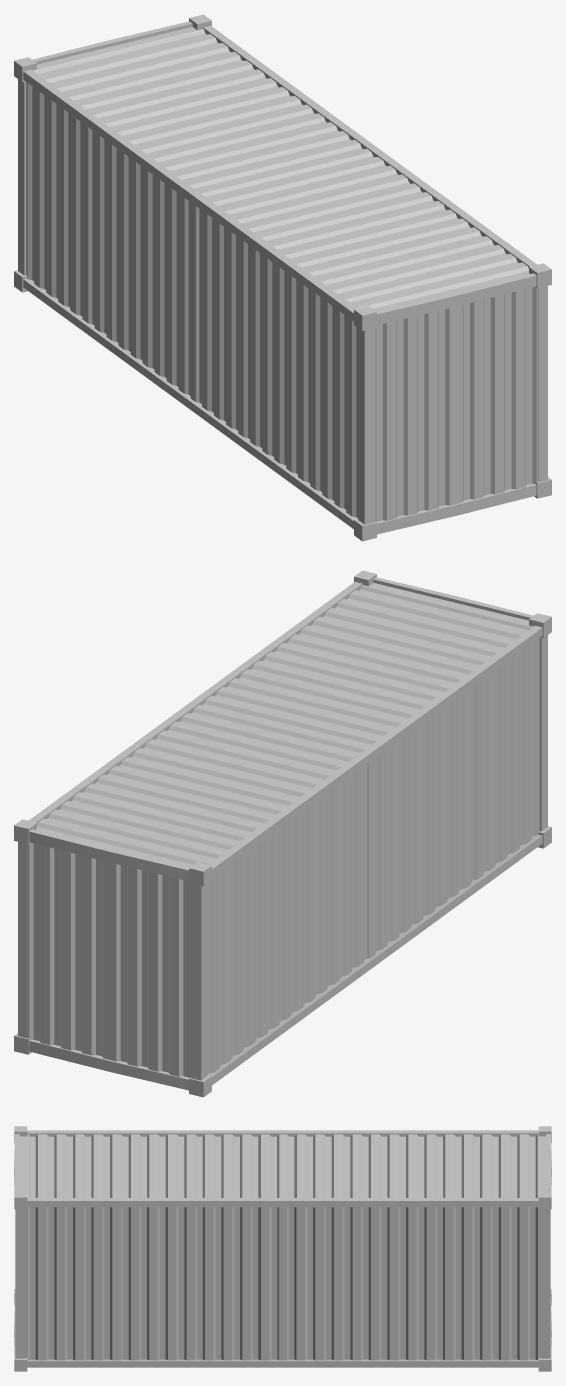
File: cargoLightGreyLP.glb
3 renders of one model, top to bottom at view 1: azimuth 30°, elevation 25°; view 2: azimuth 150°, elevation 25°; view 3: azimuth 270°, elevation 25°, orthographic. The views are drawn at different scales.
Visible parts, largest first — view 1: 030.002; view 2: 030.002; view 3: 030.002.
Boxes of the visible parts, box(x1,y1,x2,y2) form: 030.002: box(14, 14, 551, 541); 030.002: box(14, 570, 551, 1097); 030.002: box(14, 1126, 551, 1371).
Size of the model in its own units: 2.22 by 2.53 by 7.07.
1 material, 1 textured.
